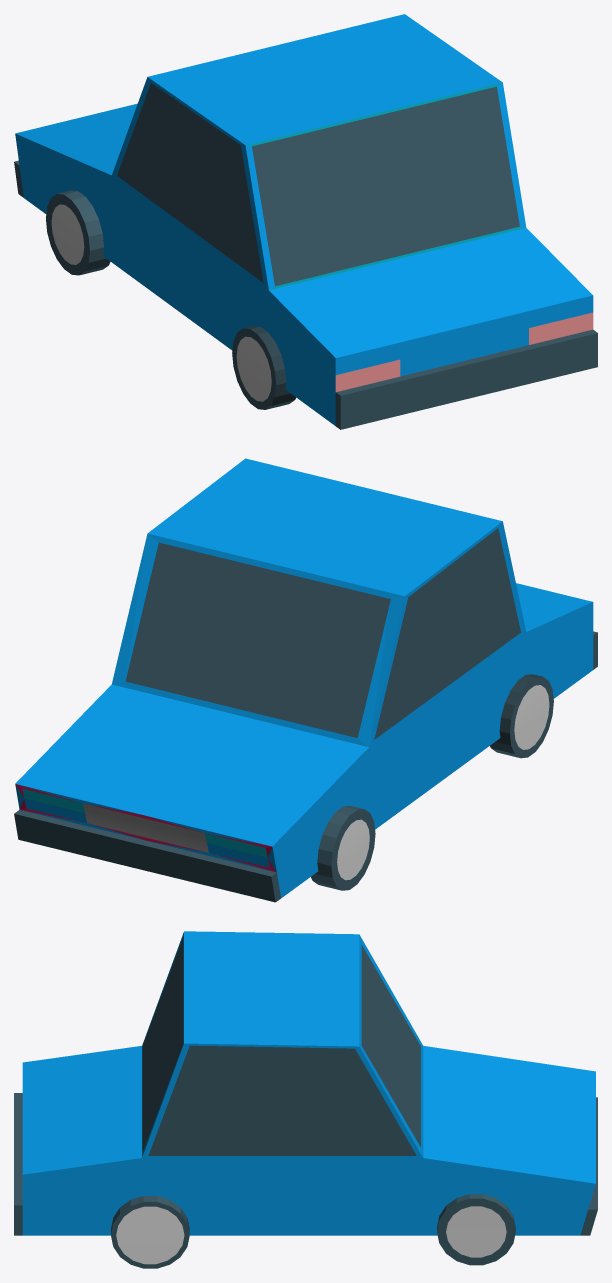
The model's file is Car1Blue1x1.fbx.
3 views of the same model, one above another, from view 1: azimuth 30°, elevation 25°; view 2: azimuth 150°, elevation 25°; view 3: azimuth 270°, elevation 25° (orthographic). The views are drawn at different scales.
Visible parts, largest first — view 1: Car_04_4; view 2: Car_04_4; view 3: Car_04_4.
Part boxes in pixels (<box>): Car_04_4: <box>14,14,597,429</box>; Car_04_4: <box>14,458,597,902</box>; Car_04_4: <box>14,931,597,1268</box>.
Bounding box in the file's own units: 0.4944 × 0.4046 × 0.9785.
1 material, 1 textured.
